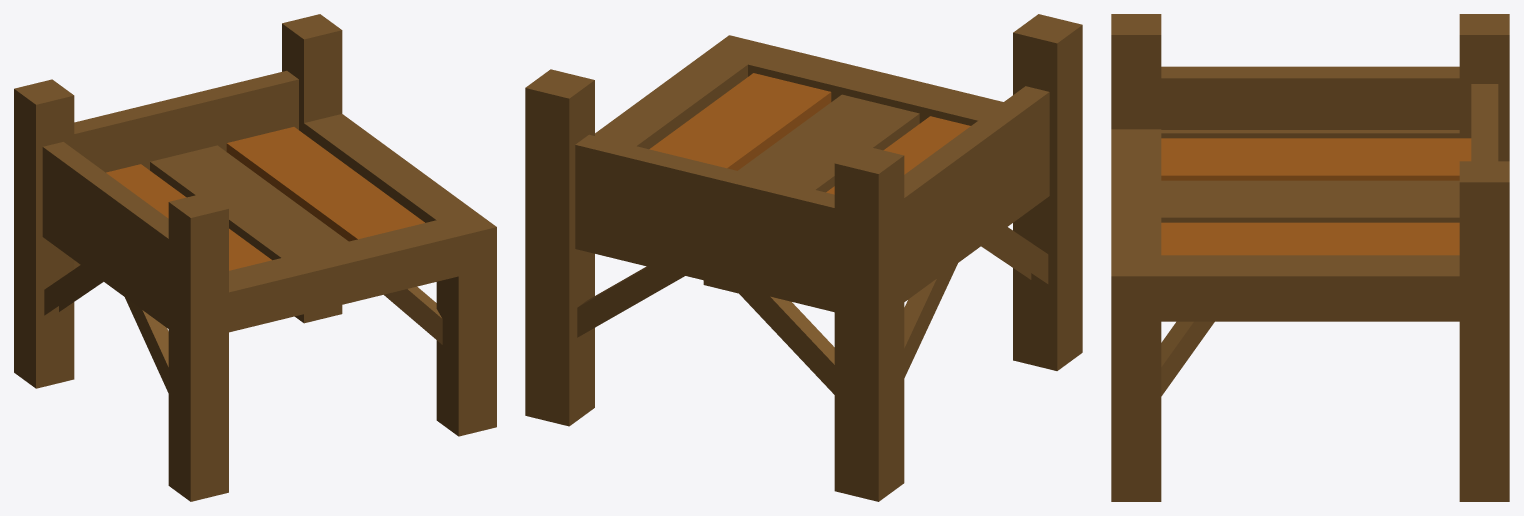
Rendered from ElbowFilled3.fbx.
The picture shows the model from 3 angles, left to right: view 1: azimuth 30°, elevation 25°; view 2: azimuth 150°, elevation 25°; view 3: azimuth 270°, elevation 25°; orthographic projection. The views are drawn at different scales.
Parts seen in each view (by area): view 1: Bridge - Elbow Filled; view 2: Bridge - Elbow Filled; view 3: Bridge - Elbow Filled.
Part boxes in pixels (bbox=[...]): Bridge - Elbow Filled: bbox=[14, 14, 496, 501]; Bridge - Elbow Filled: bbox=[525, 14, 1082, 501]; Bridge - Elbow Filled: bbox=[1111, 14, 1509, 501].
Bounding box in the file's own units: 80 × 70.89 × 80.
